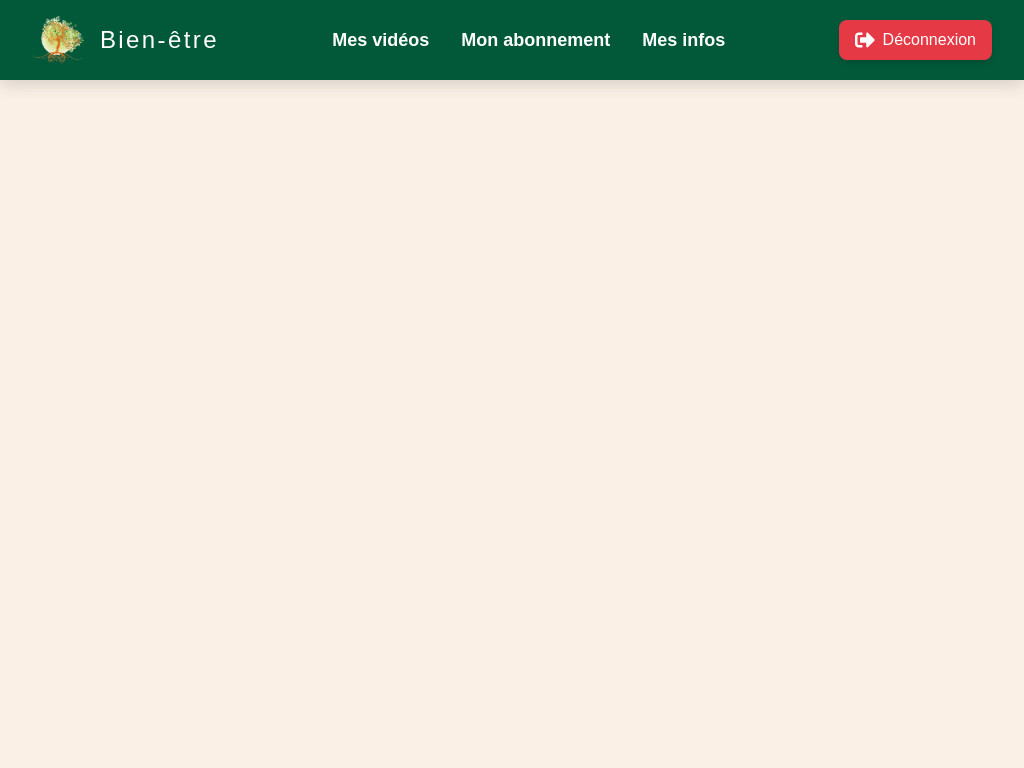
Scenario: Navbar › ouvre la modale de déconnexion au clic
The image size is (1024, 768).
Click the button "Déconnexion".
click(915, 40)  # box [839, 20, 992, 60]
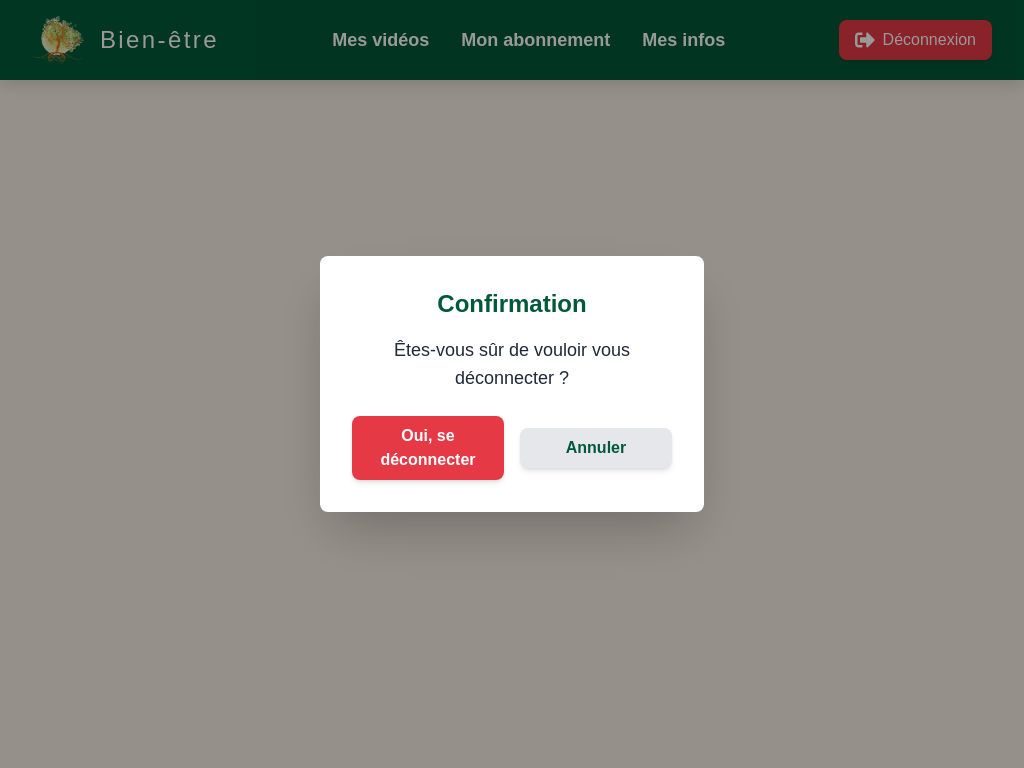
Now the text "Êtes-vous sûr de vouloir vous déconnecter ?" is shown, box [394, 340, 630, 388]
